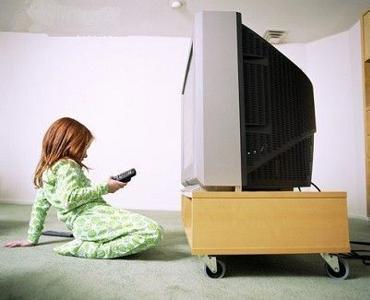person: (5, 118, 164, 259)
